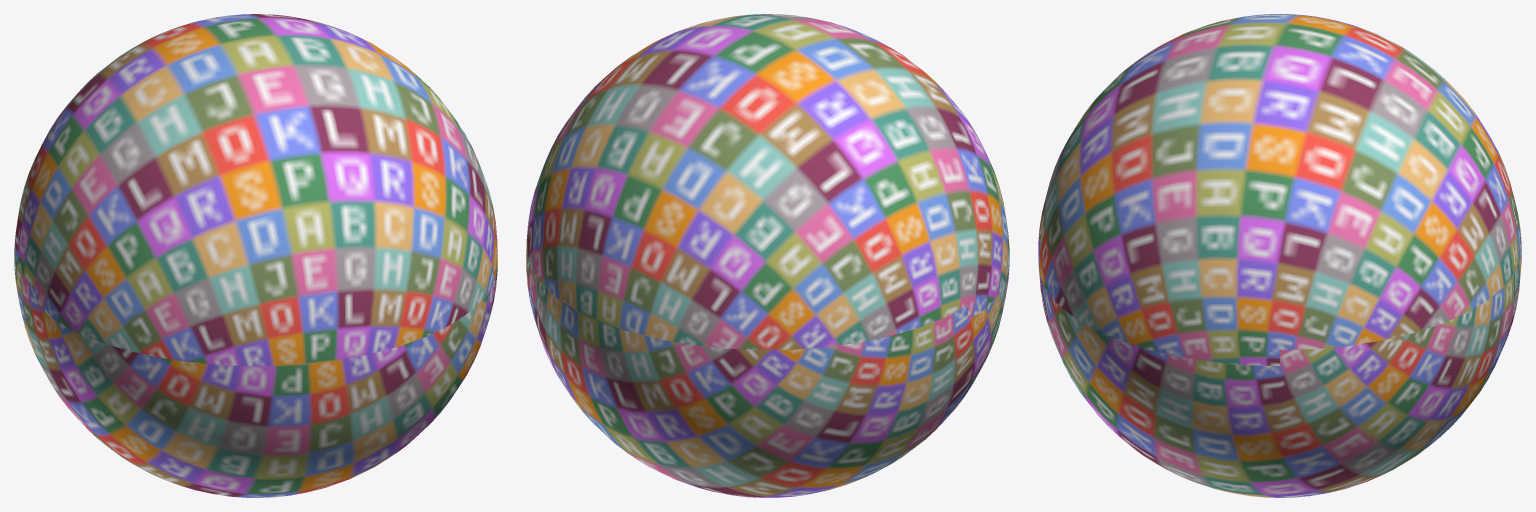
The model's file is unit-sphere.obj.
3 views of the same model, side by side, from view 1: azimuth 30°, elevation 25°; view 2: azimuth 150°, elevation 25°; view 3: azimuth 270°, elevation 25° (orthographic).
Visible parts, largest first — view 1: sphere3; view 2: sphere3; view 3: sphere3.
Boxes of the visible parts, box(x1,y1,x2,y2) form: sphere3: box(14, 14, 497, 497); sphere3: box(526, 14, 1009, 497); sphere3: box(1038, 14, 1521, 497).
Bounding box in the file's own units: 0.998 × 1 × 0.9987.
1 material, 1 textured.
